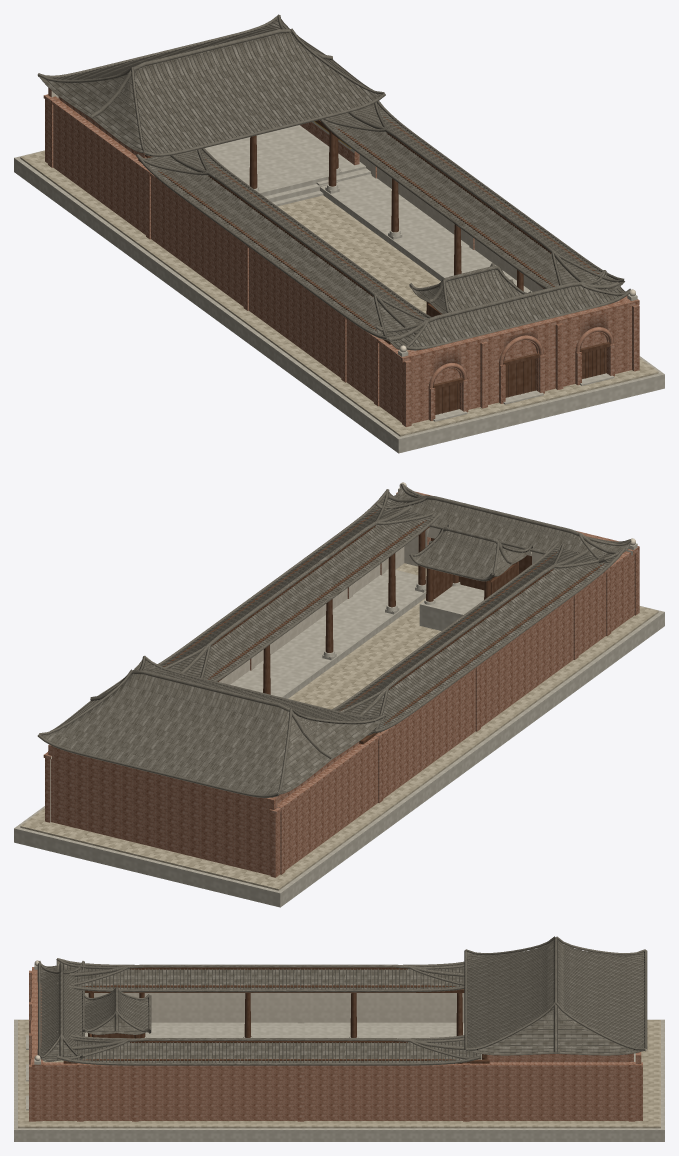
The model's file is corridor-c.glb.
3 views of the same model, one above another, from view 1: azimuth 30°, elevation 25°; view 2: azimuth 150°, elevation 25°; view 3: azimuth 270°, elevation 25° (orthographic). The views are drawn at different scales.
Visible parts, largest first — view 1: 03_MainHall, 02_Enclosure, 01_Base, 07_Entrance, 05_EastGallery, 04_WestGallery, 06_Stage; view 2: 02_Enclosure, 03_MainHall, 01_Base, 05_EastGallery, 04_WestGallery, 07_Entrance, 06_Stage; view 3: 02_Enclosure, 03_MainHall, 01_Base, 04_WestGallery, 05_EastGallery, 07_Entrance, 06_Stage.
Part boxes in pixels (x1,y1,x2,y2): 03_MainHall: (37, 14, 385, 206); 02_Enclosure: (43, 88, 627, 420); 01_Base: (14, 150, 664, 453); 07_Entrance: (375, 270, 639, 426); 05_EastGallery: (315, 101, 624, 295); 04_WestGallery: (136, 148, 447, 344); 06_Stage: (409, 263, 530, 316); 02_Enclosure: (43, 546, 630, 877); 03_MainHall: (37, 655, 385, 803); 01_Base: (14, 563, 664, 907); 05_EastGallery: (157, 489, 440, 698); 04_WestGallery: (332, 540, 626, 744); 07_Entrance: (375, 482, 639, 617); 06_Stage: (409, 524, 532, 630); 02_Enclosure: (42, 993, 642, 1121); 03_MainHall: (464, 936, 647, 1062); 01_Base: (14, 1019, 664, 1141); 04_WestGallery: (56, 958, 464, 1038); 05_EastGallery: (56, 1031, 489, 1065); 07_Entrance: (26, 960, 84, 1121); 06_Stage: (82, 987, 151, 1038).
Size of the model in its own units: 11.8 by 5.97 by 29.5.
13 materials, 10 textured.
